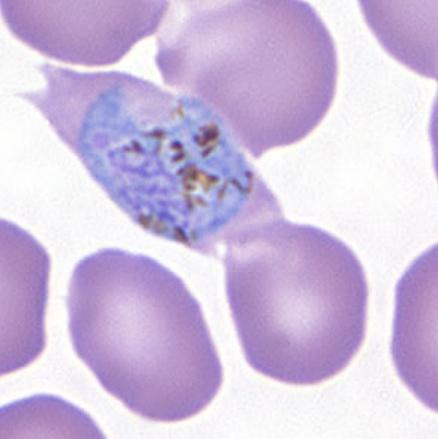Infected: (26, 63, 294, 263)
Uninfected: (153, 0, 336, 158), (61, 250, 225, 421), (228, 219, 368, 387)
